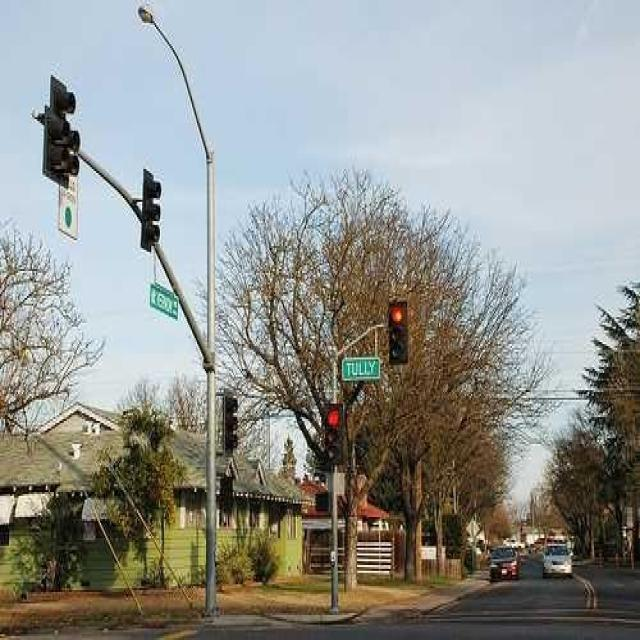Traffic Light -Red-: (384, 298, 410, 365), (321, 402, 343, 469)
